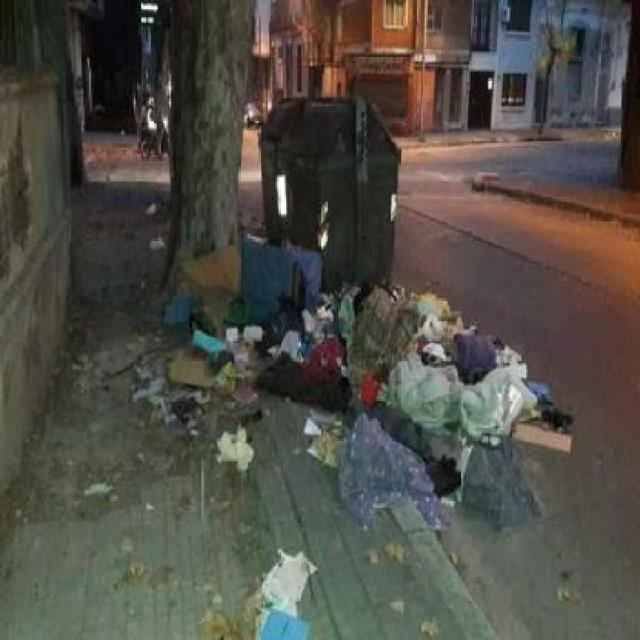garbage: (333, 286, 543, 519), (134, 317, 272, 498), (175, 236, 324, 382), (362, 543, 448, 638), (246, 543, 309, 638), (94, 329, 146, 414), (532, 388, 573, 458)
